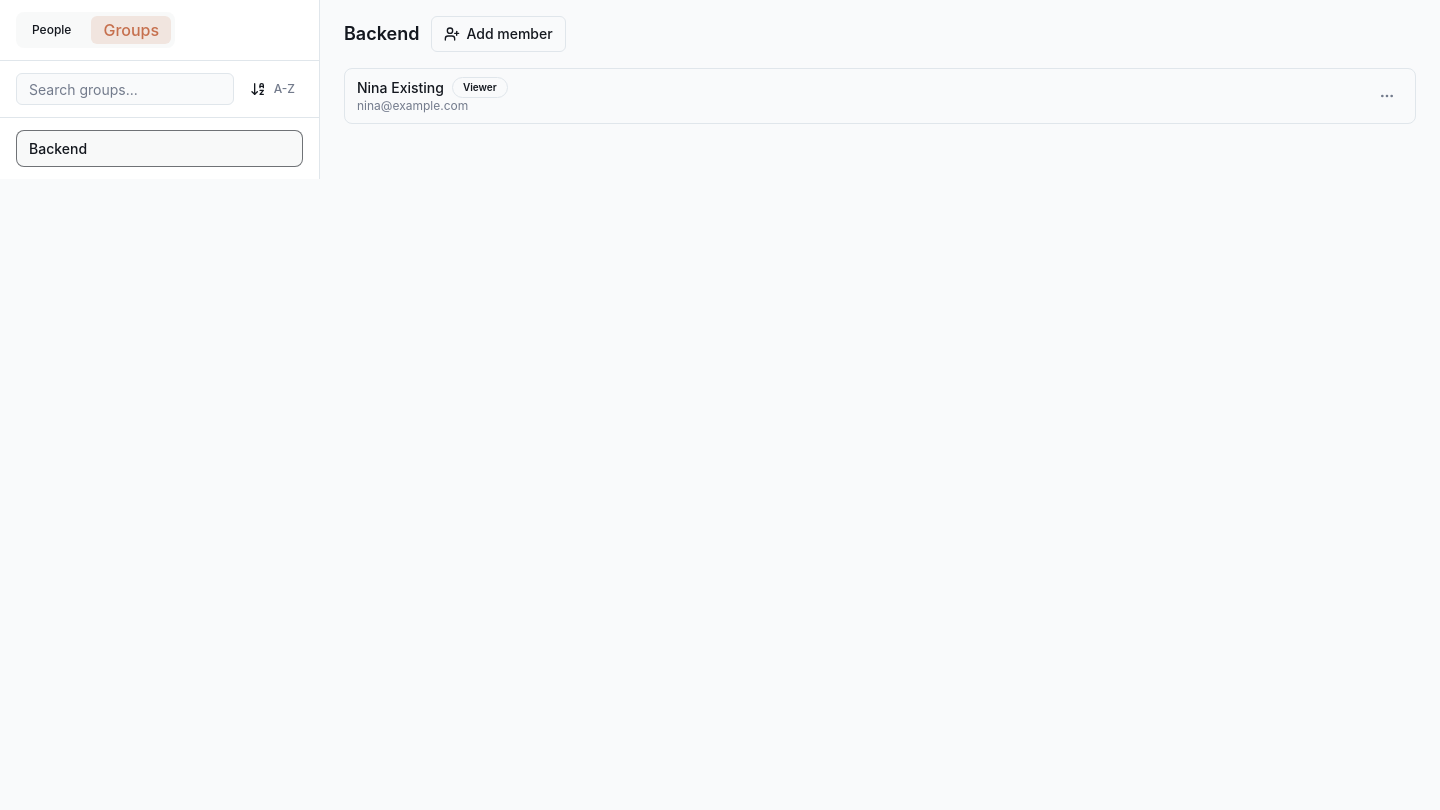
Test: MembersPage group add-member popover › shows a readable empty state when no members match the search
Click the button "Add member" at (499, 34), box [431, 16, 566, 52]
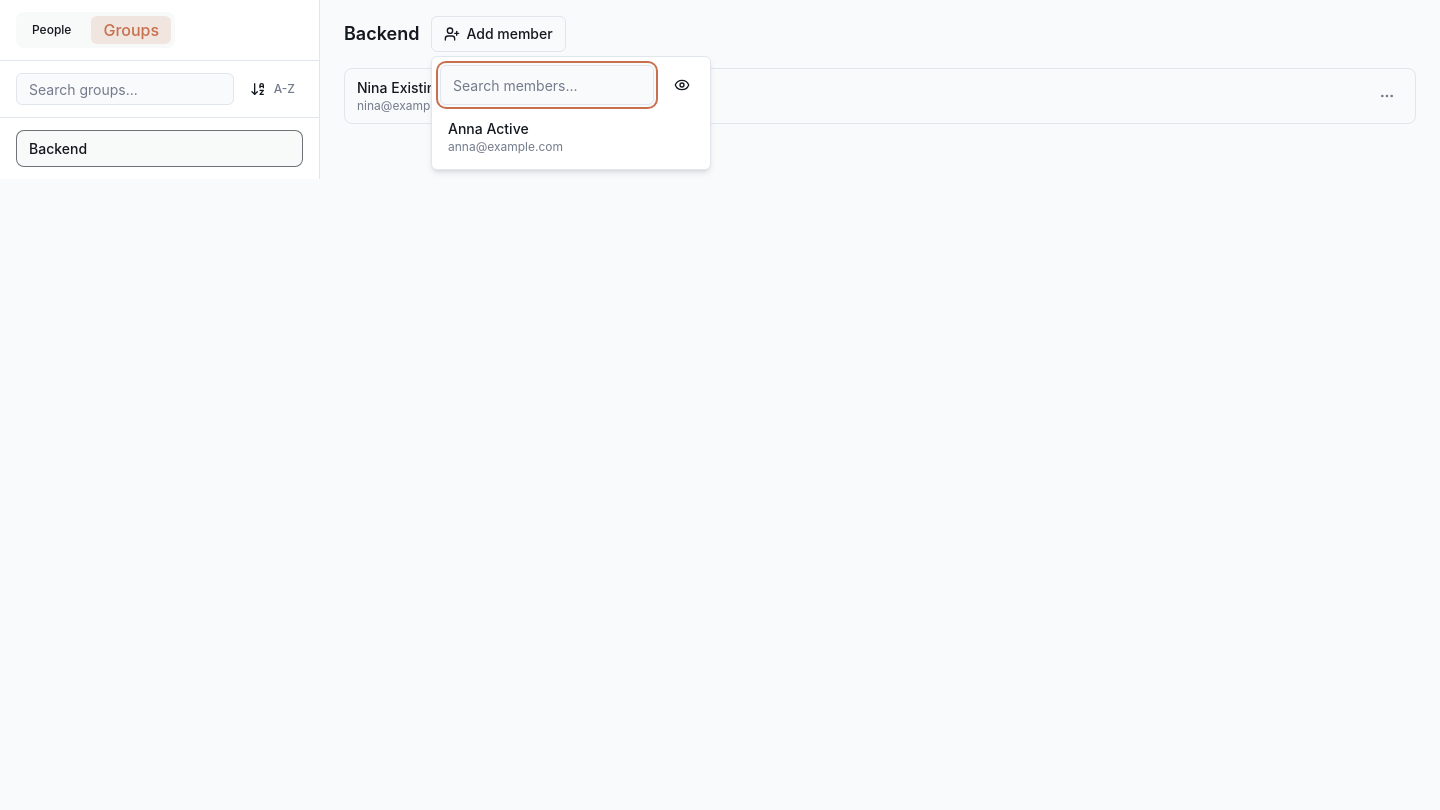
Type "olivia" into the field with placeholder "Search members..." at (547, 85), box [440, 65, 654, 105]
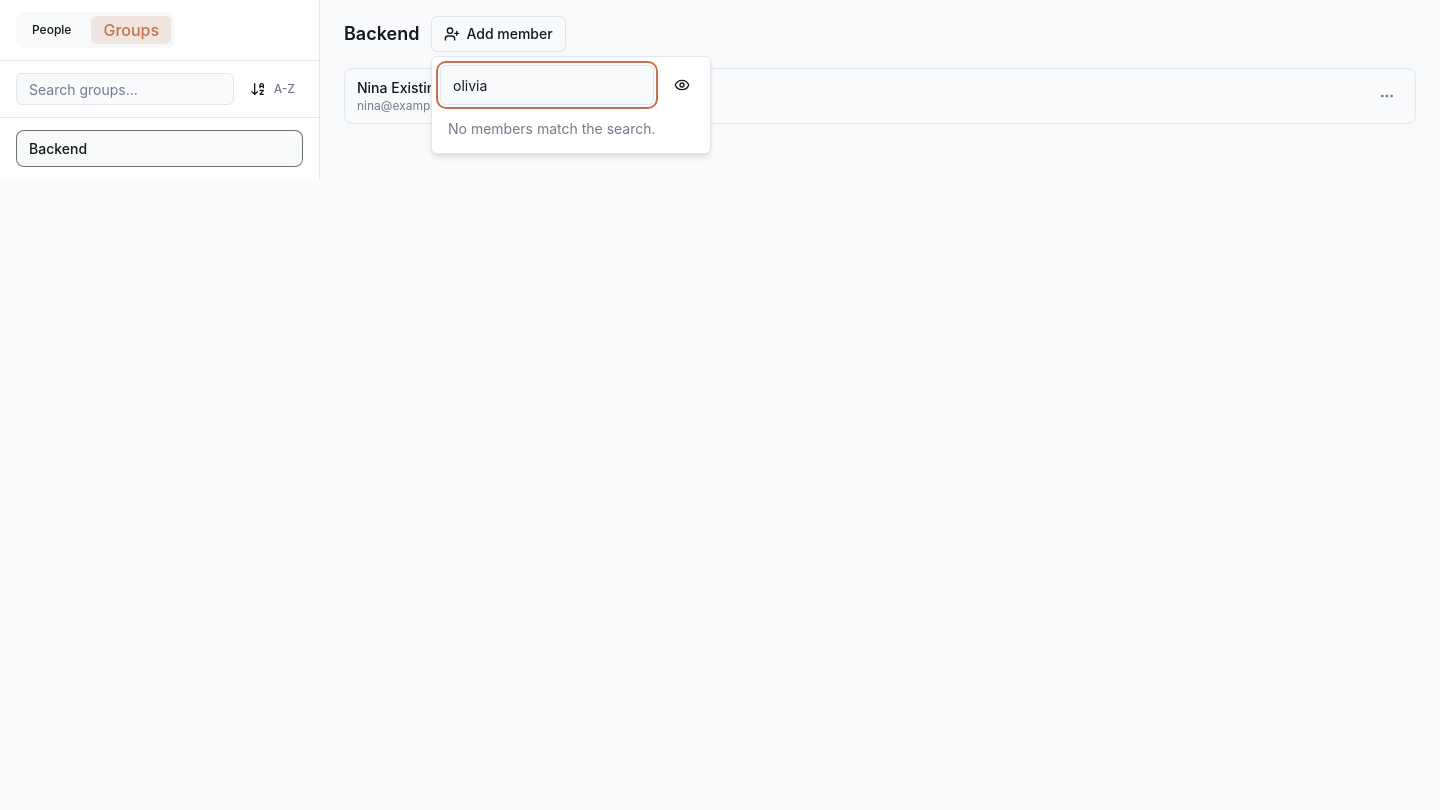
Check: the text "No members match the search." is shown, box [448, 120, 656, 137]
